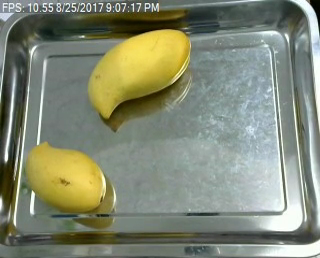Mango: (88, 27, 192, 122), (24, 138, 109, 214)
